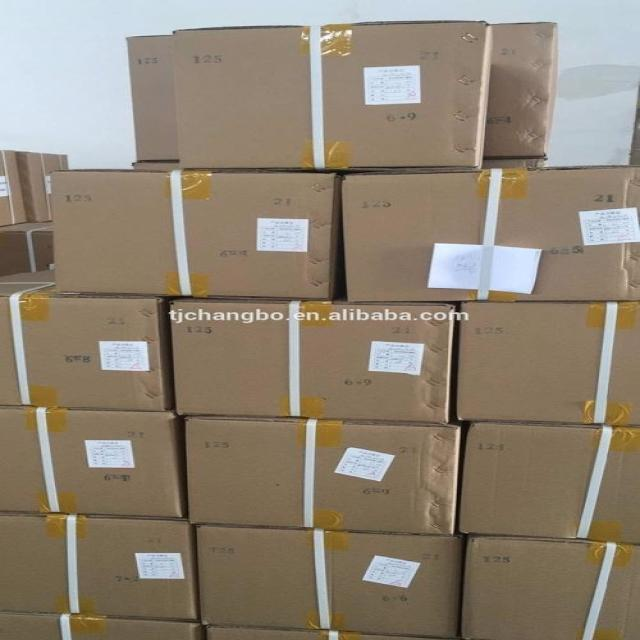box: (174, 20, 492, 169), (170, 276, 463, 423), (343, 166, 640, 301), (50, 168, 347, 299), (186, 415, 462, 536), (196, 525, 466, 639), (0, 270, 182, 412), (457, 301, 640, 428), (456, 421, 640, 544), (0, 512, 200, 621), (0, 405, 188, 518), (456, 534, 640, 640), (485, 22, 559, 157), (128, 35, 180, 161), (0, 612, 206, 640), (14, 150, 69, 222), (206, 626, 456, 640), (0, 222, 54, 276), (0, 150, 27, 227), (484, 157, 548, 168), (133, 160, 182, 171)
